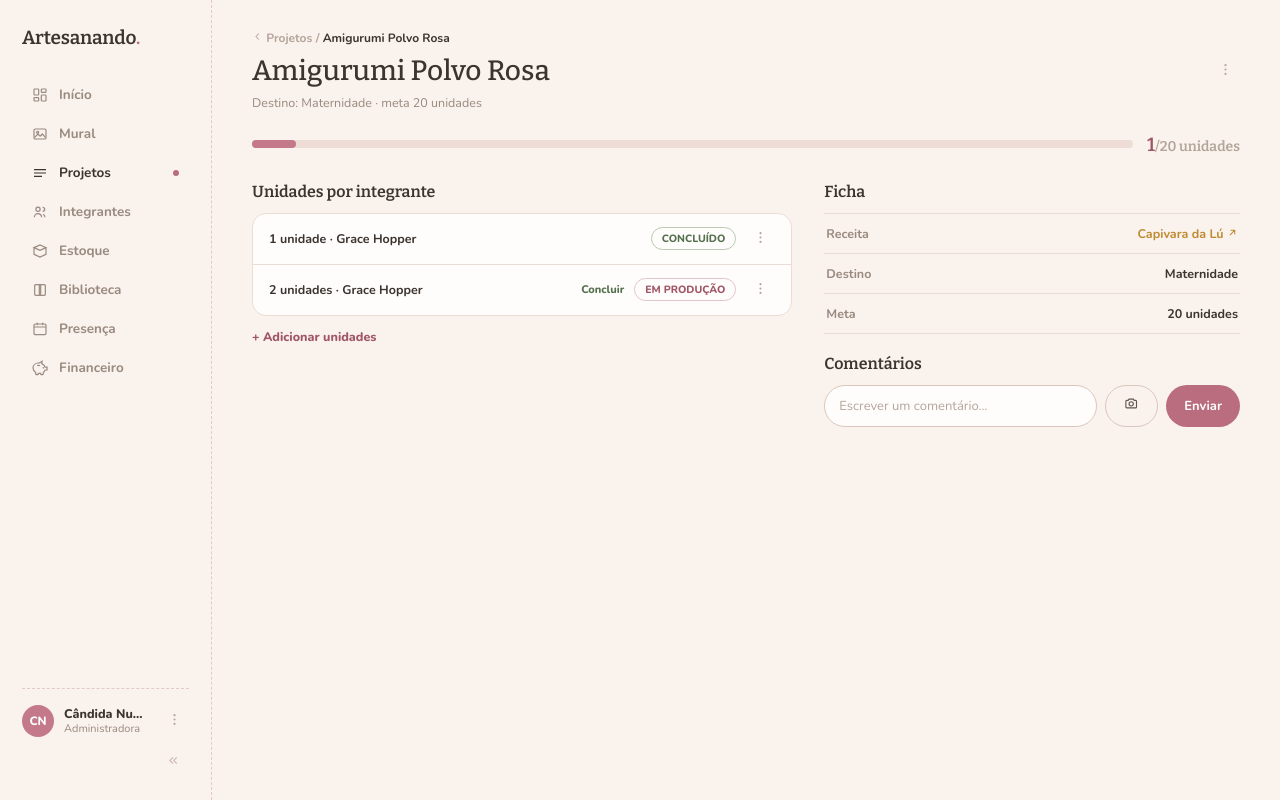
Test: projetos (M3) › unidade de amigurumi pode ser reatribuída ou removida
The width and height of the screenshot is (1280, 800).
Click the button named "Ações das unidades de Grace Hopper" next to "CONCLUÍDO" at [761, 239], box [746,226,775,252]
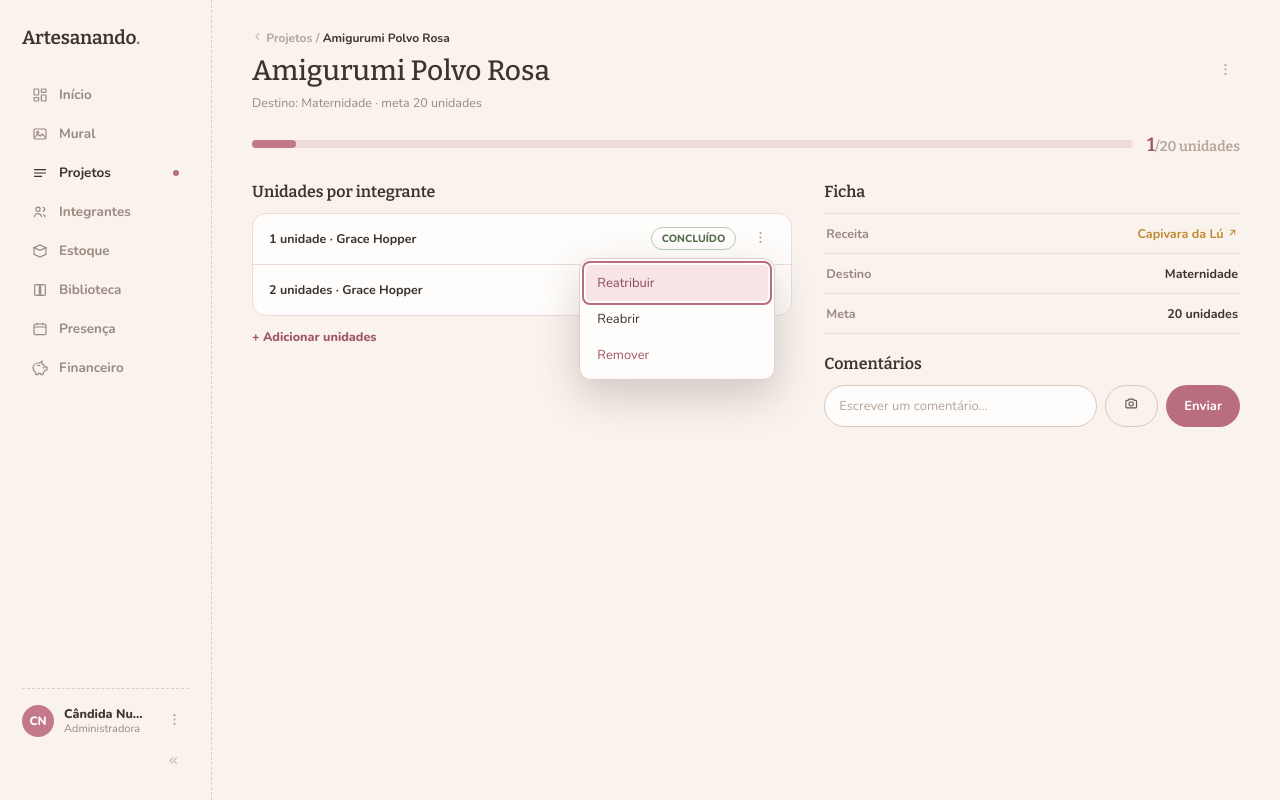
Check: the menu item "Reatribuir" is shown, box [586,265,768,301]
Check: the menu item "Remover" is shown, box [586,337,768,373]
